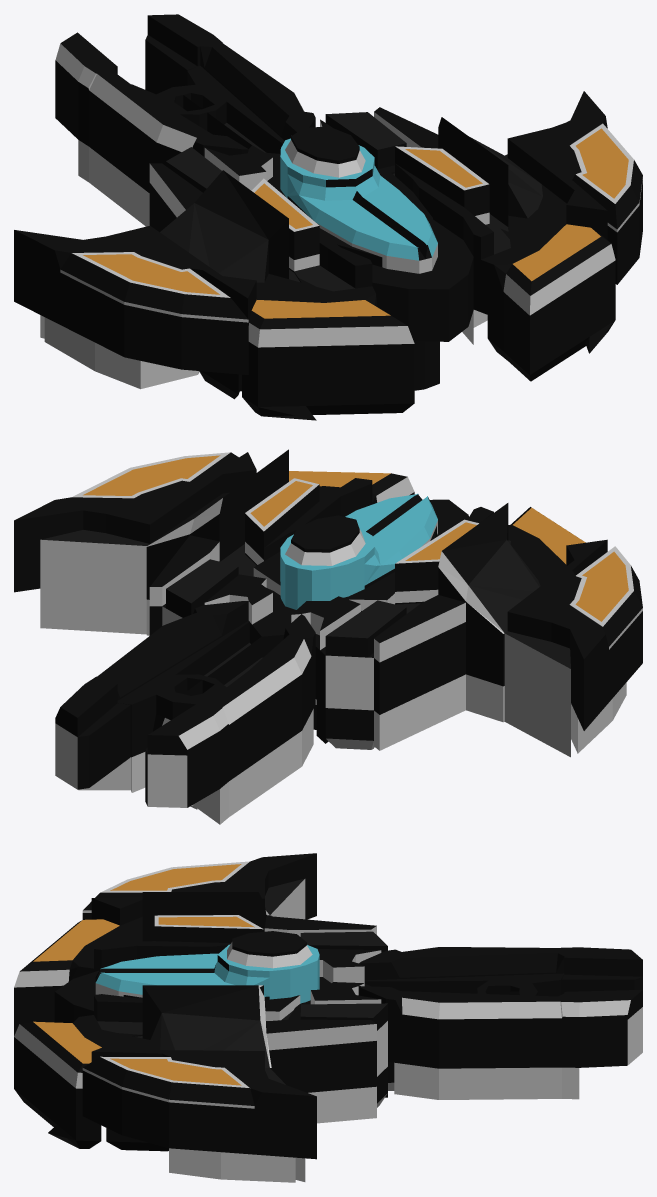
File: circleFlat.obj
3 views of the same model, one above another, from view 1: azimuth 30°, elevation 25°; view 2: azimuth 150°, elevation 25°; view 3: azimuth 270°, elevation 25° (orthographic). The views are drawn at different scales.
Parts seen in each view (by area): view 1: Cube_Cube.001_Cube_Cube.001_Material.012, Cube_Cube.001_Cube_Cube.001_Material.015, Cube_Cube.001_Cube_Cube.001_Material.014, Cube_Cube.001_Cube_Cube.001_Material.016, Cube_Cube.001_Cube_Cube.001_Material.013; view 2: Cube_Cube.001_Cube_Cube.001_Material.012, Cube_Cube.001_Cube_Cube.001_Material.015, Cube_Cube.001_Cube_Cube.001_Material.017, Cube_Cube.001_Cube_Cube.001_Material.016, Cube_Cube.001_Cube_Cube.001_Material.014, Cube_Cube.001_Cube_Cube.001_Material.013; view 3: Cube_Cube.001_Cube_Cube.001_Material.012, Cube_Cube.001_Cube_Cube.001_Material.015, Cube_Cube.001_Cube_Cube.001_Material.016, Cube_Cube.001_Cube_Cube.001_Material.014, Cube_Cube.001_Cube_Cube.001_Material.013, Cube_Cube.001_Cube_Cube.001_Material.017.
Boxes of the visible parts, left/top/right/bottom form: Cube_Cube.001_Cube_Cube.001_Material.012: left=14, top=14, right=642, bottom=420; Cube_Cube.001_Cube_Cube.001_Material.015: left=40, top=43, right=642, bottom=389; Cube_Cube.001_Cube_Cube.001_Material.014: left=83, top=128, right=628, bottom=318; Cube_Cube.001_Cube_Cube.001_Material.016: left=160, top=112, right=570, bottom=291; Cube_Cube.001_Cube_Cube.001_Material.013: left=280, top=138, right=437, bottom=260; Cube_Cube.001_Cube_Cube.001_Material.012: left=14, top=449, right=642, bottom=807; Cube_Cube.001_Cube_Cube.001_Material.015: left=40, top=452, right=642, bottom=824; Cube_Cube.001_Cube_Cube.001_Material.017: left=40, top=539, right=570, bottom=807; Cube_Cube.001_Cube_Cube.001_Material.016: left=42, top=515, right=570, bottom=686; Cube_Cube.001_Cube_Cube.001_Material.014: left=83, top=455, right=628, bottom=621; Cube_Cube.001_Cube_Cube.001_Material.013: left=280, top=493, right=437, bottom=609; Cube_Cube.001_Cube_Cube.001_Material.012: left=14, top=853, right=642, bottom=1159; Cube_Cube.001_Cube_Cube.001_Material.015: left=14, top=861, right=630, bottom=1182; Cube_Cube.001_Cube_Cube.001_Material.016: left=97, top=878, right=387, bottom=1084; Cube_Cube.001_Cube_Cube.001_Material.014: left=33, top=864, right=254, bottom=1085; Cube_Cube.001_Cube_Cube.001_Material.013: left=95, top=944, right=319, bottom=1003; Cube_Cube.001_Cube_Cube.001_Material.017: left=270, top=879, right=642, bottom=1076.
Bounding box in the file's own units: 2.38 × 0.7099 × 2.6.
